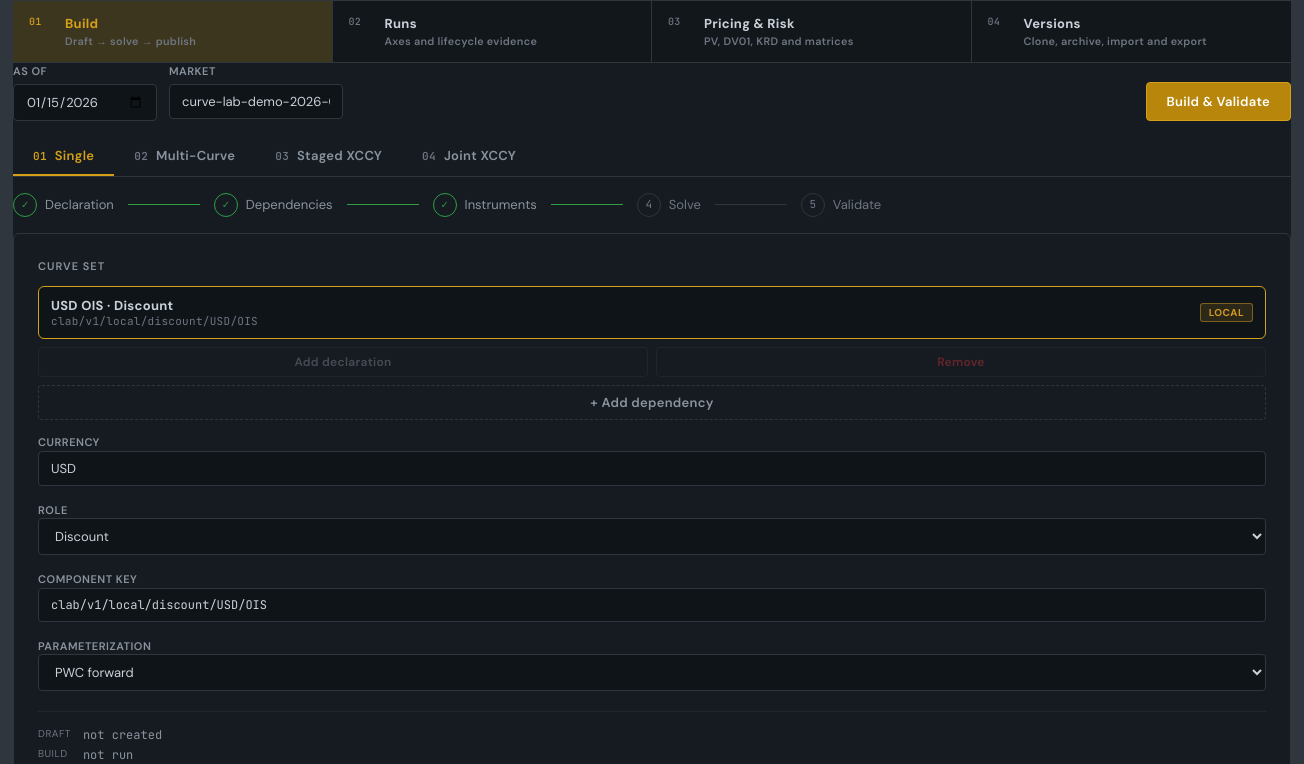
Test: Curve Lab V2 workspace › raises a dismissible rebuild banner when quotes change after a build
The image size is (1304, 764).
Click the button "Build & Validate" at (1218, 101), box [1146, 82, 1291, 120]
(page scrolled)
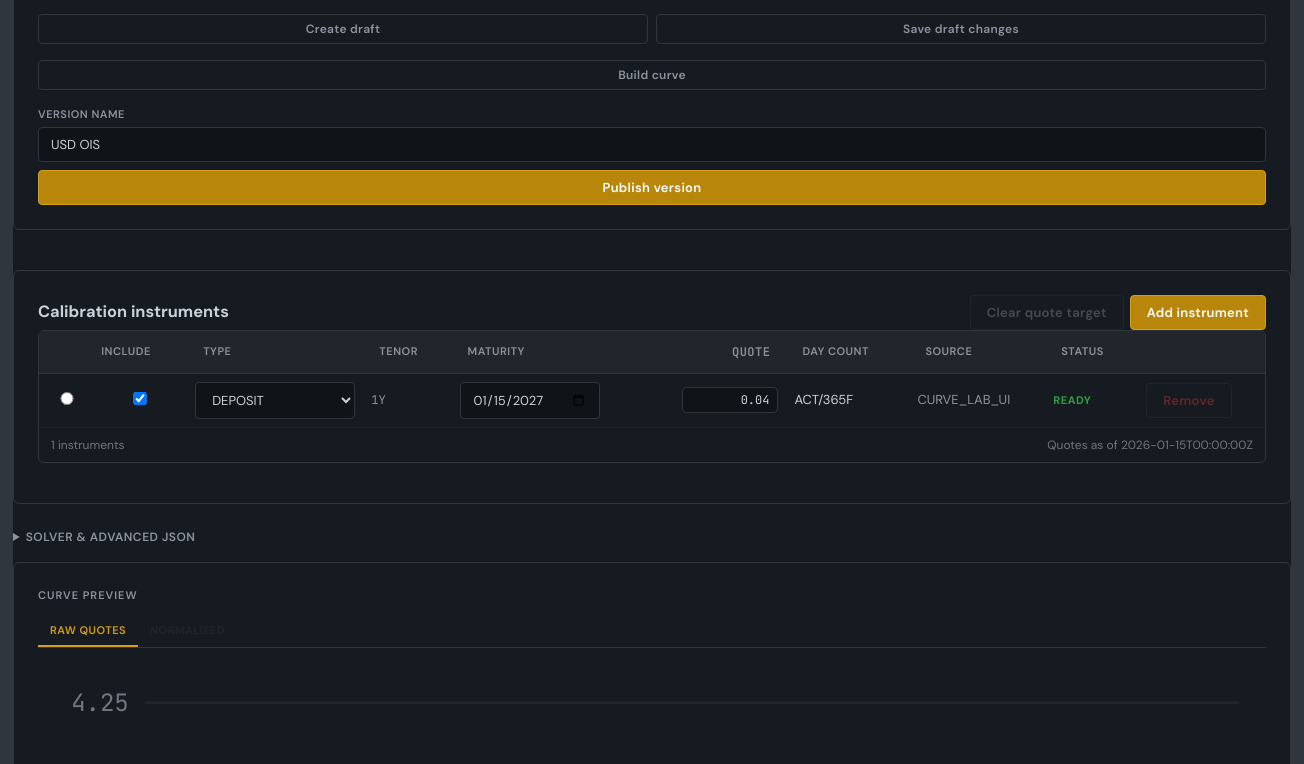
Expected: the text "Draft changed · rebuild required" is not shown
Replace the text in the field named "Quote 1" with "0.05" at (730, 400), box [682, 387, 778, 413]
(page scrolled)
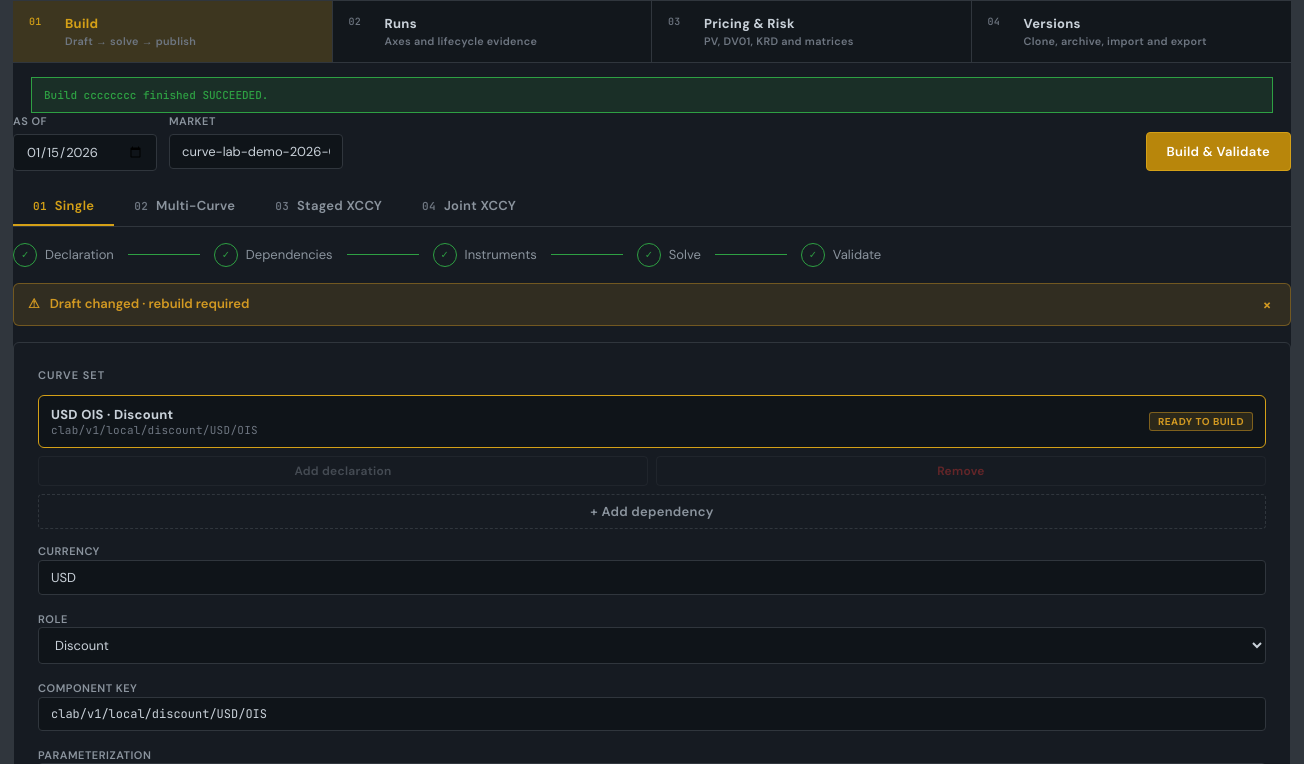
Expected: the text "Draft changed · rebuild required" is shown, [50, 294, 249, 314]
Click the button named "Dismiss rebuild notice" at (1267, 304), box [1259, 294, 1276, 314]
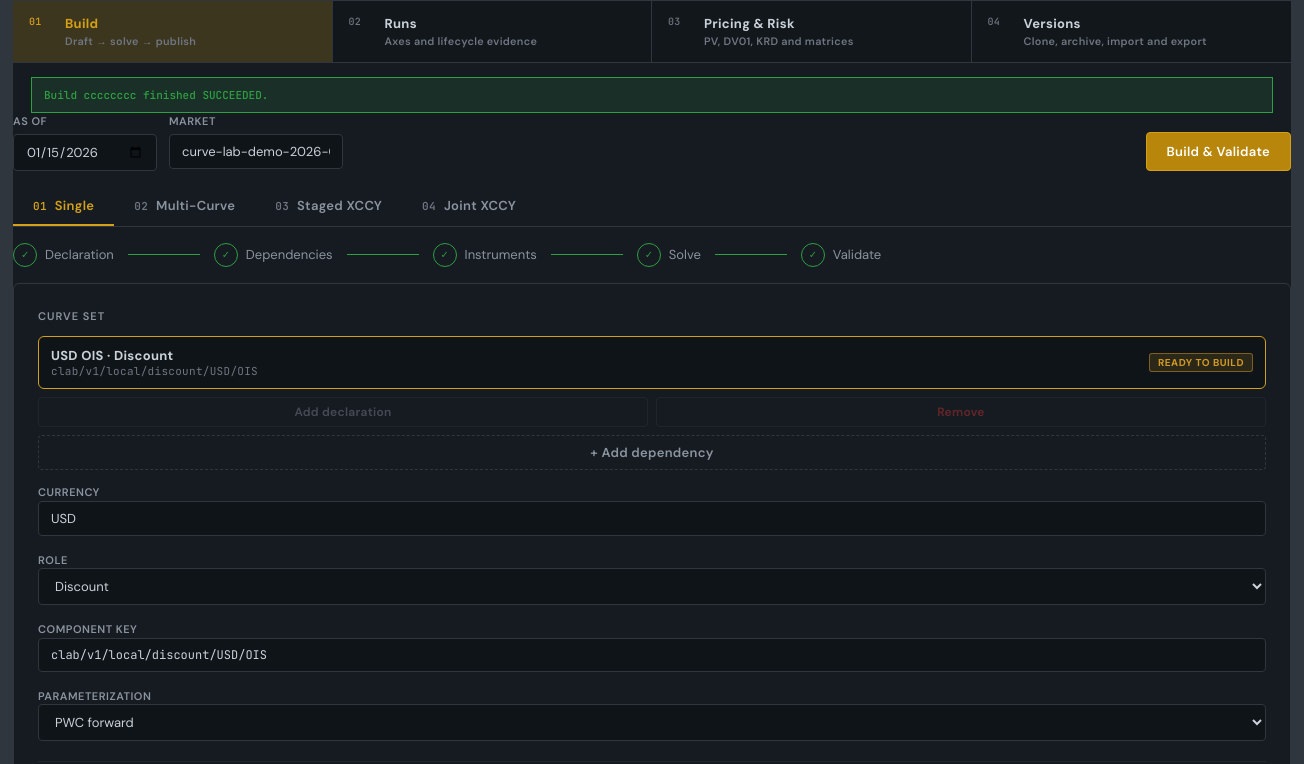
Expected: the text "Draft changed · rebuild required" is gone
